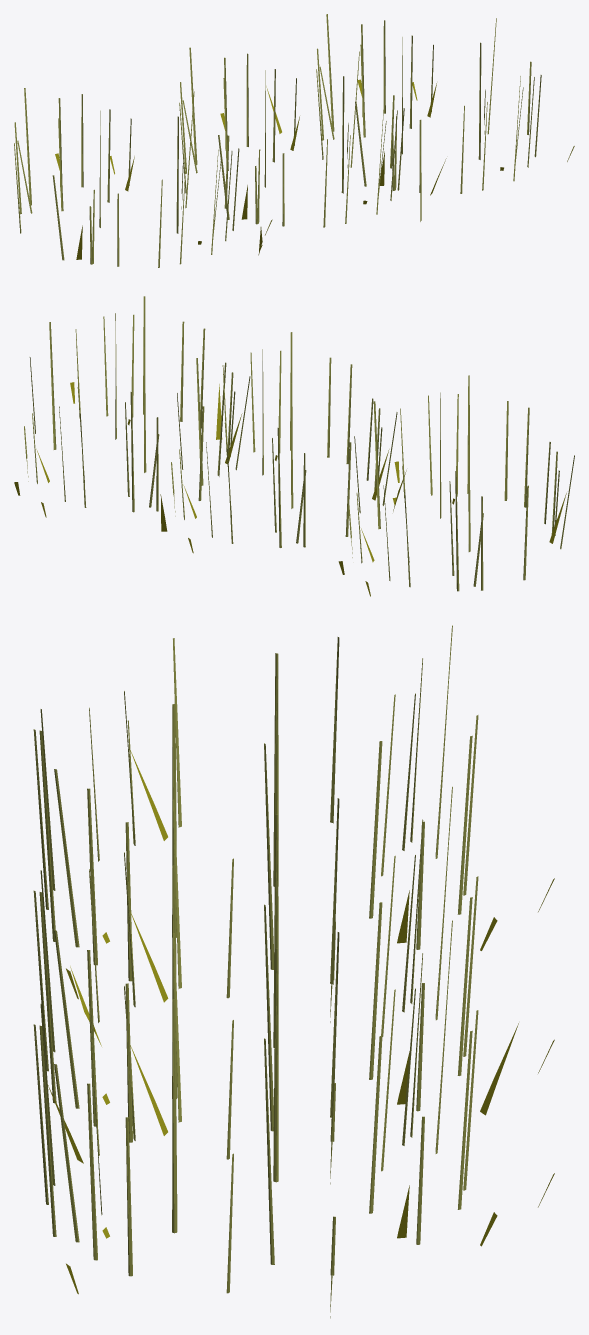
Rendered from Grau0.fbx.
3 views of the same model, one above another, from view 1: azimuth 30°, elevation 25°; view 2: azimuth 150°, elevation 25°; view 3: azimuth 270°, elevation 25° (orthographic). The views are drawn at different scales.
Parts seen in each view (by area): view 1: Group1; view 2: Group1; view 3: Group1.
Part boxes in pixels (<box>): Group1: <box>14,14,574,267</box>; Group1: <box>14,296,574,596</box>; Group1: <box>33,625,554,1318</box>.
Bounding box in the file's own units: 1.03 × 0.292 × 0.4686.
